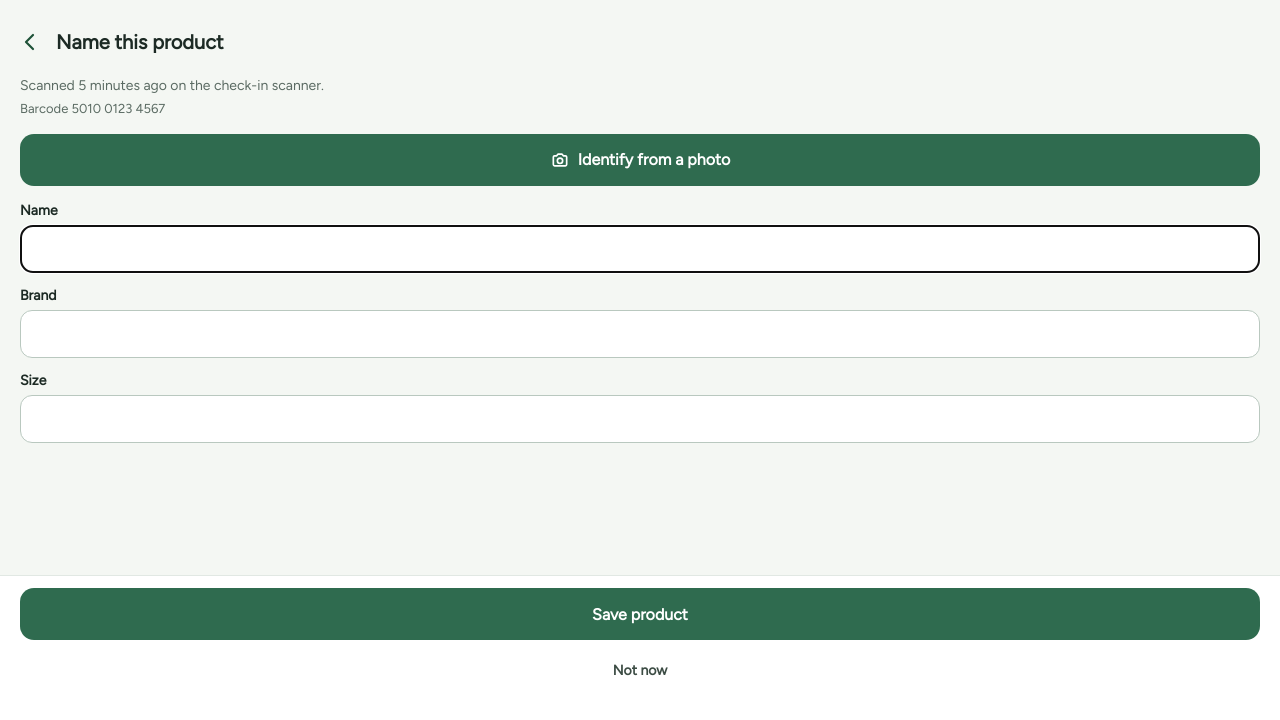
field errors from the API show inline
Type "Paprika" into the field labelled "Name" at {"x": 640, "y": 249}, box [20,225,1260,273]
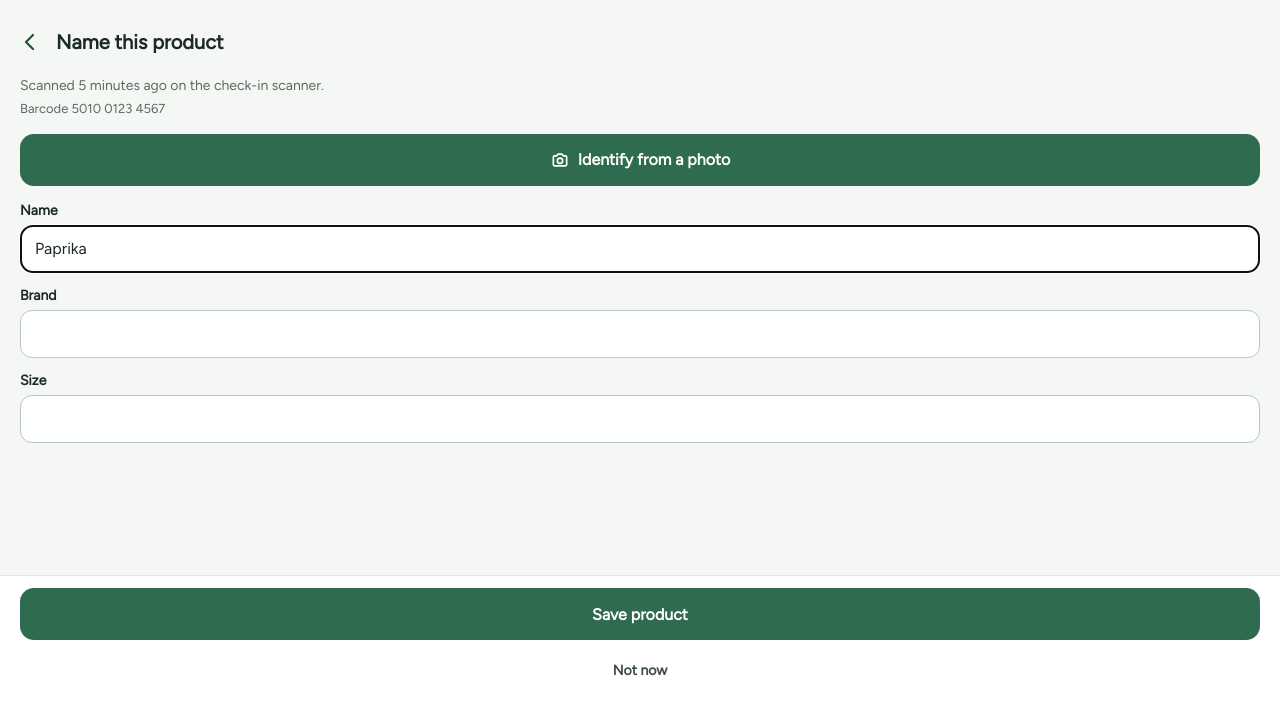
Click the button "Save product" at {"x": 640, "y": 614}, box [20,588,1260,640]
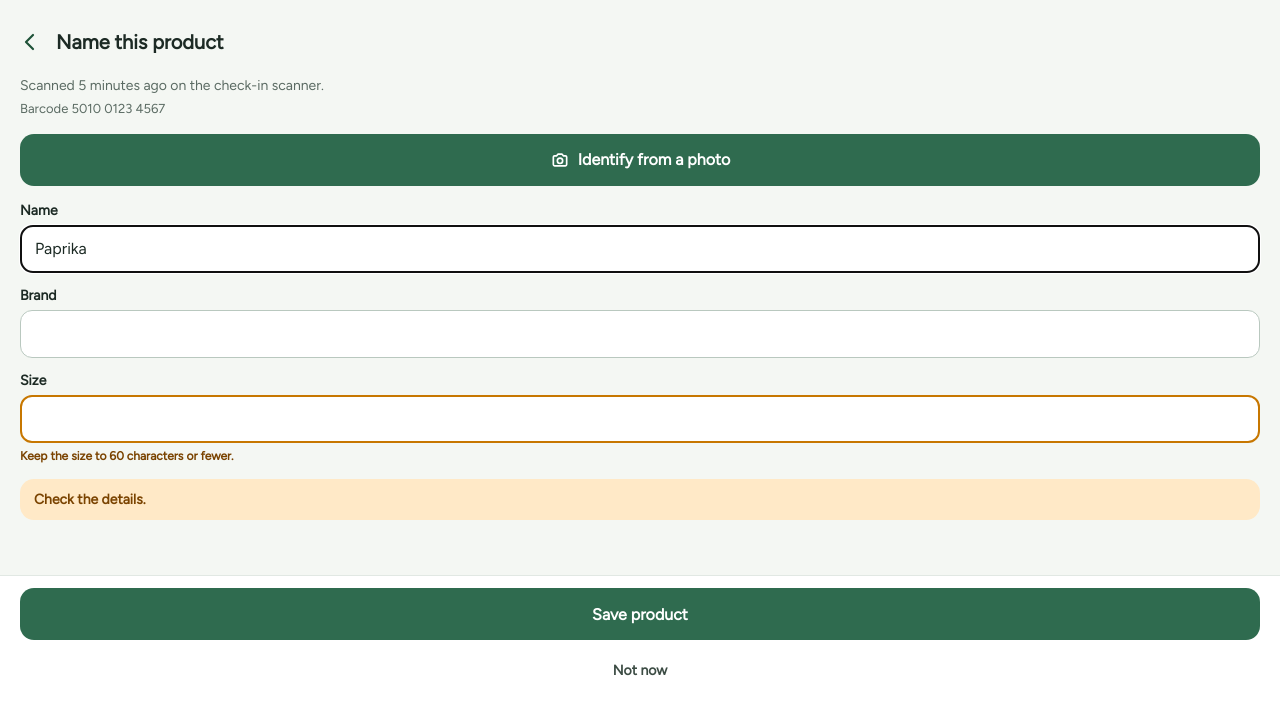
Expected: the text "Keep the size to 60 characters or fewer." is shown, [20,449,234,463]
